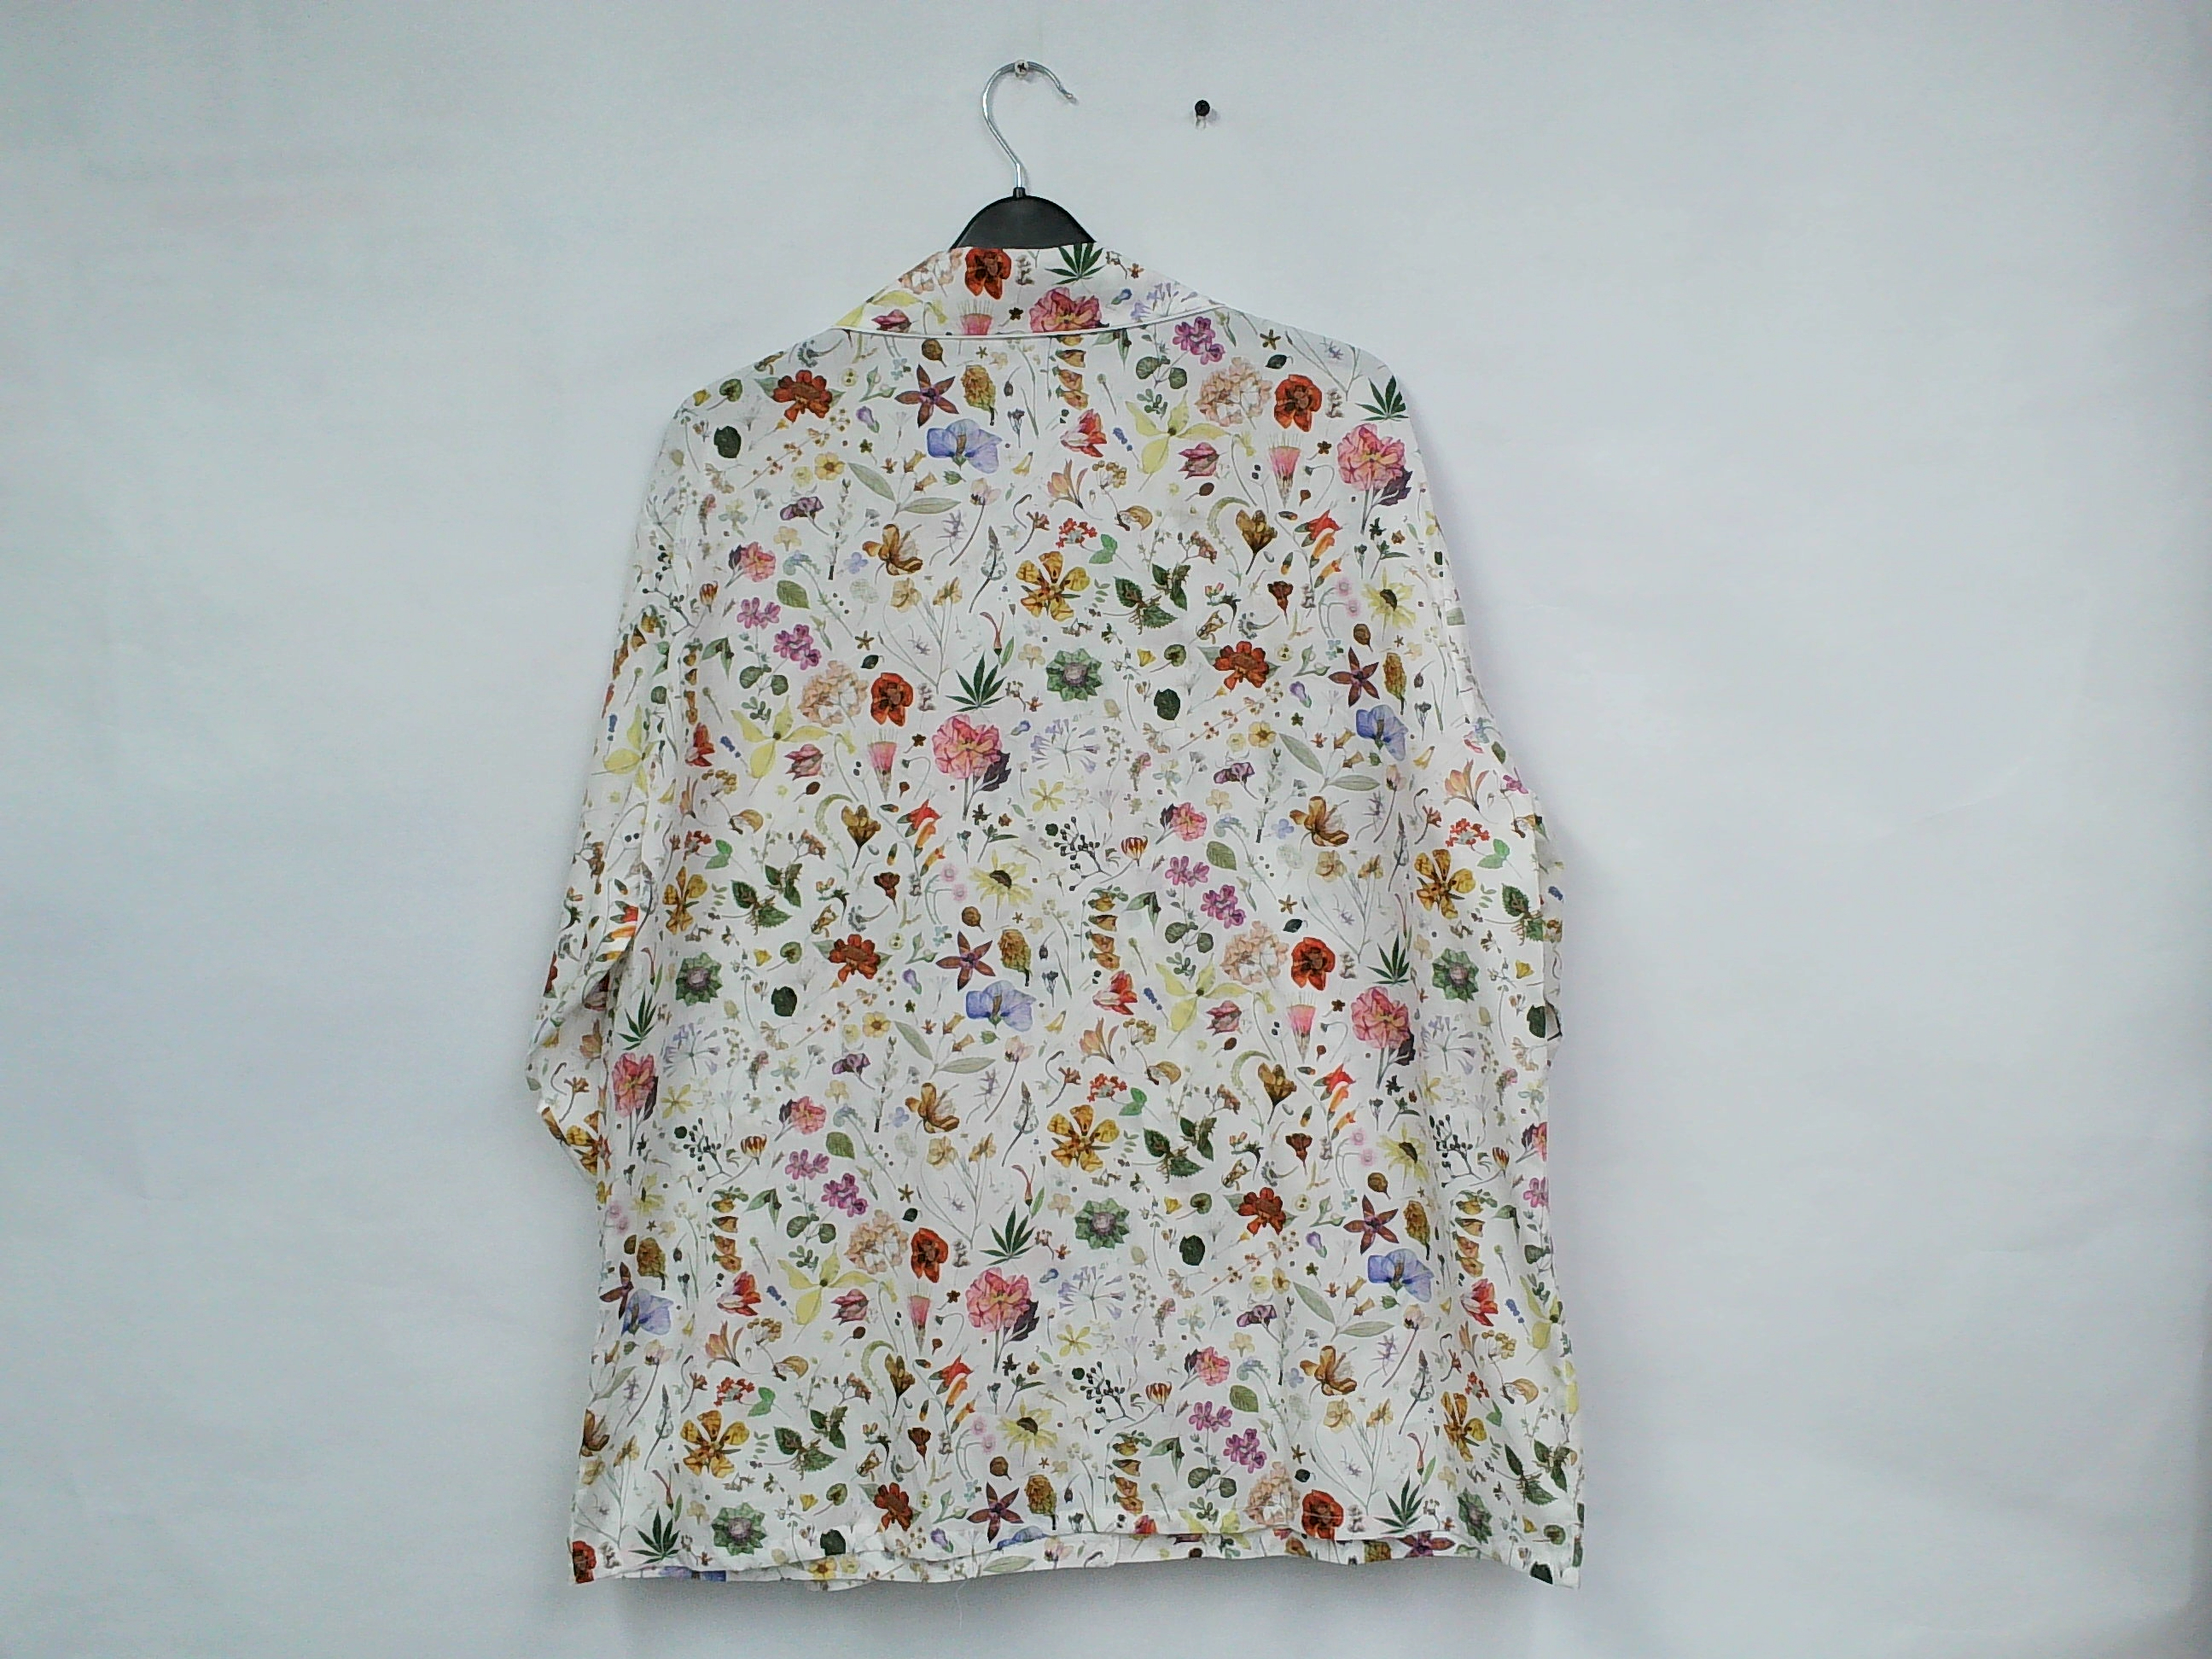loose_thread: (897, 1528, 1029, 1649)
